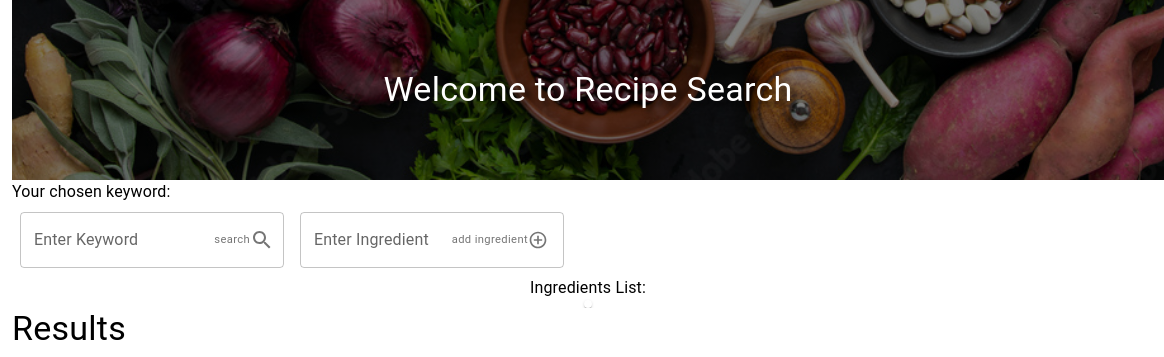
Test: RecipeSearchPage component › should display chosen keyword
The image size is (1164, 357).
In the field labelled "Enter Keyword": [109, 240] box [20,212,198,268], type "swazi"
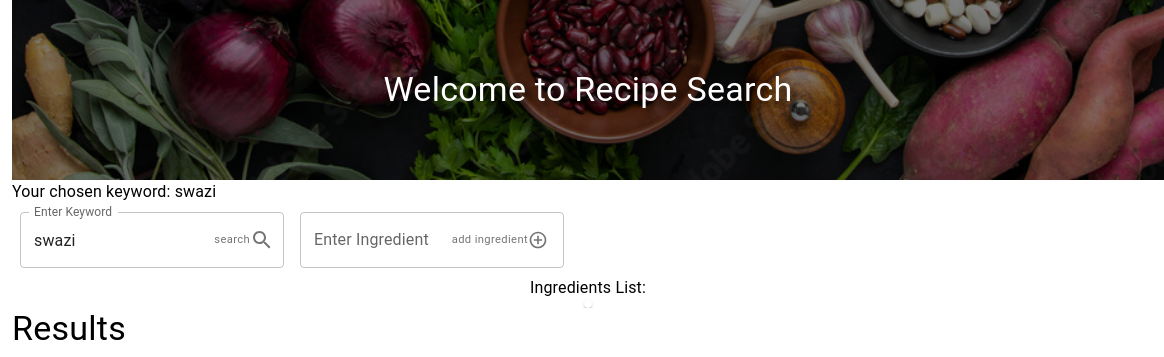
Check: the text "Your chosen keyword: swazi" is shown, box [12,182,216,201]
